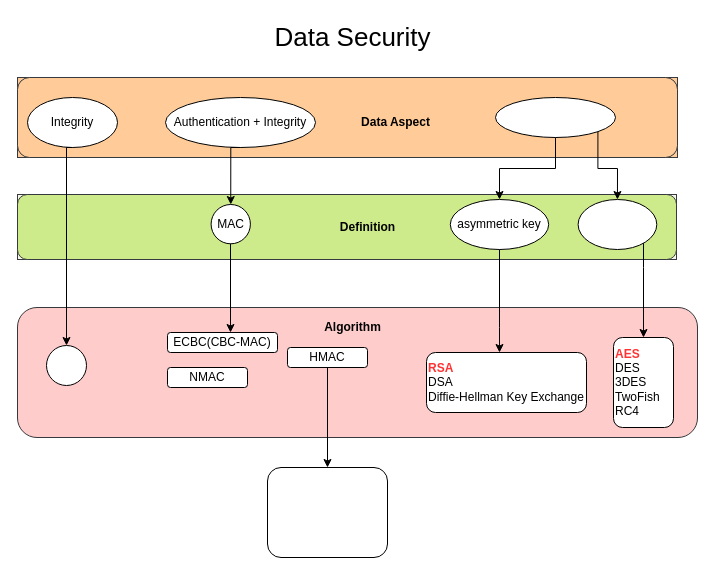
This 715x575 diagram has some shape labels left out. Here are the shapes that lost their labels. From the top down, the centre of each, then its label:
At pixel 555 117: "Encryption".
At pixel 617 224: "symmetric key".
At pixel 66 365: "MD5".
At pixel 327 512: "HMACMD5 HMACSHA1 HMACSHA256 HMACSHA384 HMACSHA512".
